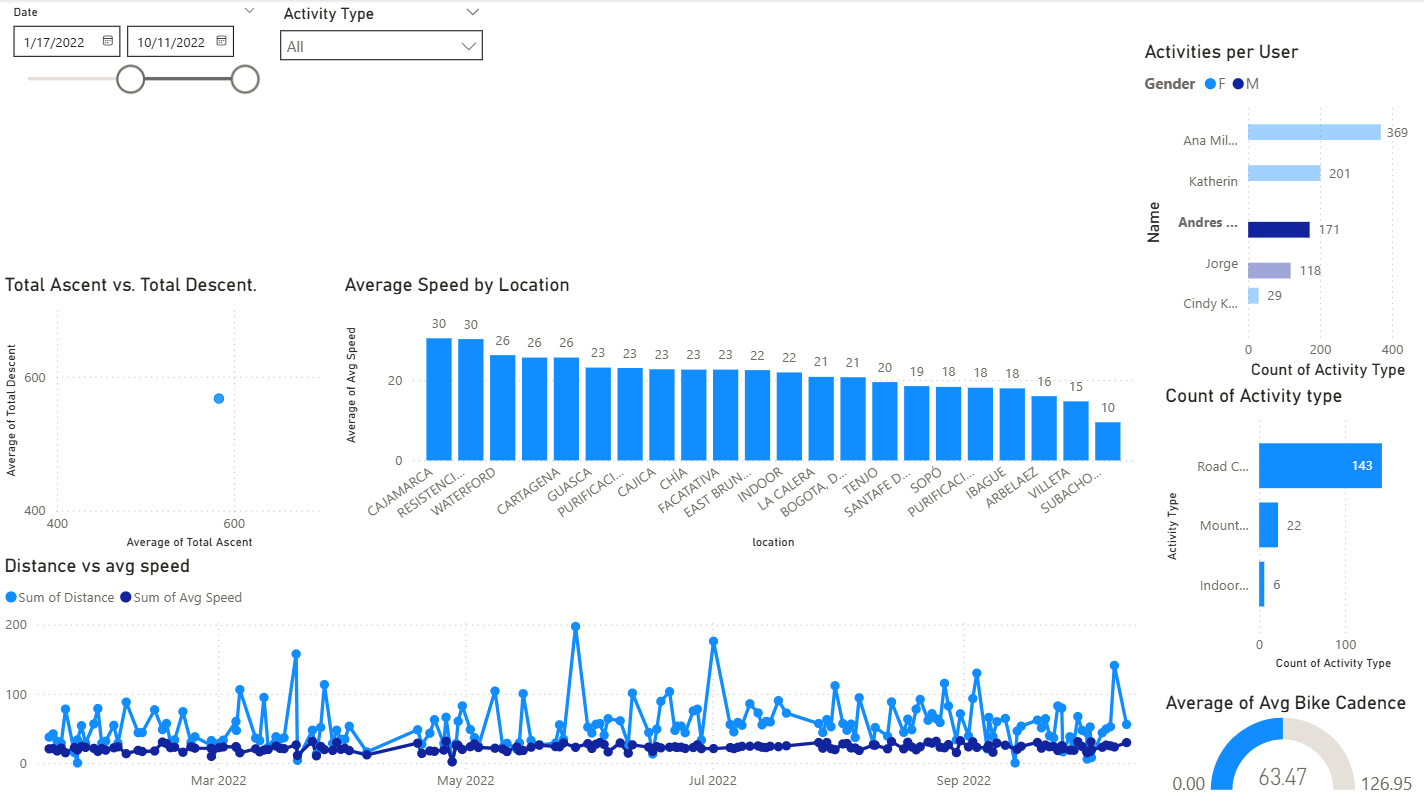

Layout of this report page (visuals, bound fields, positions):
{"tool":"powerbi","page":{"name":"Page 2 Cycling Analysis","canvas":[1280,720],"ordinal":1},"visuals":[{"type":"lineChart","title":"Distance vs avg speed","fields":{"Y":["Sum(BBDD.Distance)","Sum(BBDD.Avg Speed)"],"Category":["BBDD.Date"]},"box":[0,498.3,1042.3,221.7],"z":0},{"type":"clusteredBarChart","title":"Count of Activity type","fields":{"Category":["BBDD.Activity Type"],"Y":["CountNonNull(BBDD.Activity Type)"]},"box":[1042.3,345.6,237.9,261.2],"z":1000},{"type":"clusteredBarChart","title":"Activities per User","fields":{"Category":["dimUser.Name"],"Series":["dimUser.Gender"],"Y":["CountNonNull(BBDD.Activity Type)"]},"box":[1023.4,36.8,256.8,308.8],"z":2000},{"type":"slicer","fields":{"Values":["BBDD.Date"]},"box":[0,0,242.4,98.8],"z":3000},{"type":"scatterChart","title":"Total Ascent vs. Total Descent.","fields":{"X":["Avg(BBDD.Total Ascent)"],"Y":["Avg(BBDD.Total Descent)"]},"box":[0,246,305.2,252.3],"z":4000},{"type":"columnChart","title":"Average Speed by Location","fields":{"Y":["Avg(BBDD.Avg Speed)"],"Category":["BBDD.location"]},"box":[305.2,246,718.2,252.3],"z":5000},{"type":"gauge","fields":{"Y":["Avg(BBDD.Avg Bike Cadence)"]},"box":[1042.3,621.2,237.9,98.8],"z":6000},{"type":"slicer","fields":{"Values":["BBDD.Activity Type"]},"box":[242.4,0,202,73.6],"z":7000}]}

Visuals, with their boxes in screenshot pixels (x1, y1, x2, y2), scaled from the page's 1280x720 canvas onto the 1424x800 screenshot:
"Distance vs avg speed" lineChart: 0/554/1160/799
"Count of Activity type" clusteredBarChart: 1160/384/1423/674
"Activities per User" clusteredBarChart: 1139/41/1423/384
slicer - BBDD.Date: 0/0/270/110
"Total Ascent vs. Total Descent." scatterChart: 0/273/340/554
"Average Speed by Location" columnChart: 340/273/1139/554
gauge - Avg(BBDD.Avg Bike Cadence): 1160/690/1423/799
slicer - BBDD.Activity Type: 270/0/494/82
